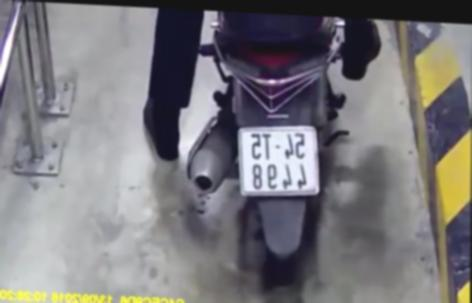License_Plate: (226, 117, 328, 208)
